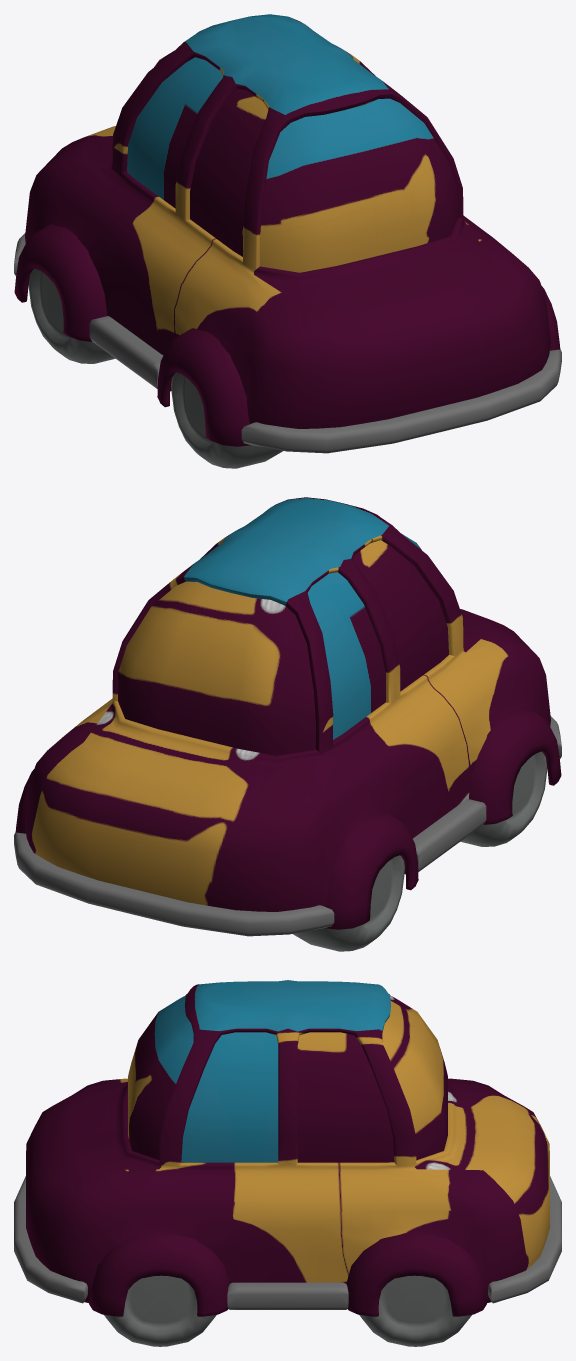
Rendered from car.fbx.
3 renders of one model, top to bottom at view 1: azimuth 30°, elevation 25°; view 2: azimuth 150°, elevation 25°; view 3: azimuth 270°, elevation 25°, orthographic. The views are drawn at different scales.
Visible parts, largest first — view 1: Car frame, Front bumber, Front right tire cover, Back right tire cover, Front right tire, Back right tire, Right bumper; view 2: Car frame, Back bumper, Back right tire cover, Front right tire cover, Back right tire, Front right tire, Right bumper; view 3: Car frame, Back left tire cover, Front left tire cover, Back left tire, Front left tire, Left bumper, Front bumber, Back bumper.
Boxes of the visible parts, <box> form: Car frame: <box>25,14,550,428</box>; Front bumber: <box>241,349,561,453</box>; Front right tire cover: <box>157,328,251,446</box>; Back right tire cover: <box>14,224,106,341</box>; Front right tire: <box>171,372,282,468</box>; Back right tire: <box>28,268,115,363</box>; Right bumper: <box>89,316,162,388</box>; Car frame: <box>25,497,550,911</box>; Back bumper: <box>14,832,334,936</box>; Back right tire cover: <box>324,811,418,929</box>; Front right tire cover: <box>469,707,561,824</box>; Back right tire: <box>293,855,404,951</box>; Front right tire: <box>460,751,547,846</box>; Right bumper: <box>413,799,486,871</box>; Car frame: <box>26,980,549,1302</box>; Back left tire cover: <box>346,1233,486,1316</box>; Front left tire cover: <box>89,1233,229,1316</box>; Back left tire: <box>359,1275,471,1346</box>; Front left tire: <box>104,1275,216,1346</box>; Left bumper: <box>227,1282,348,1309</box>; Front bumber: <box>14,1176,87,1303</box>; Back bumper: <box>488,1176,561,1303</box>.
Bounding box in the file's own units: 266 × 235 × 405.
